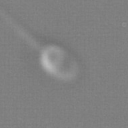normal: (1, 6, 43, 49)
